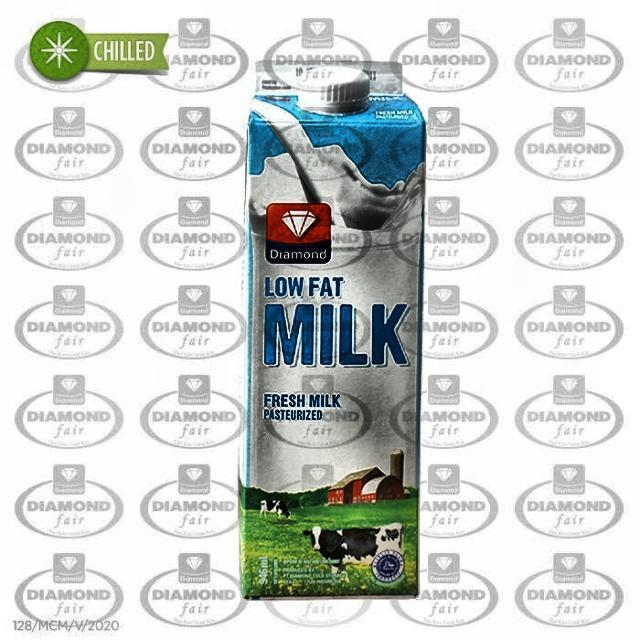cardboard: (238, 58, 426, 599)
